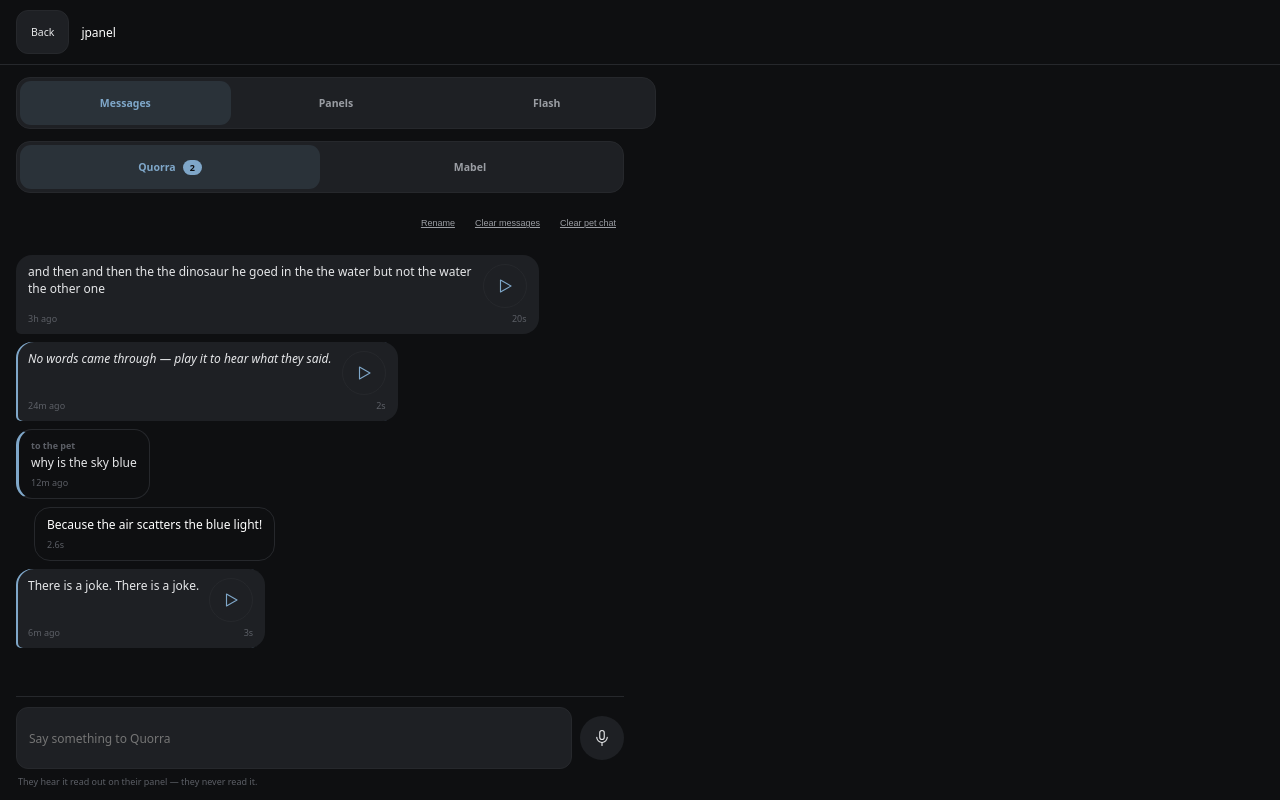
Test case: JpanelScreen messages › keeps the draft and fetches the panels again when the box no longer knows one
In the field named "Message Quorra": (294, 738) [16, 707, 572, 769], type "Bath time."
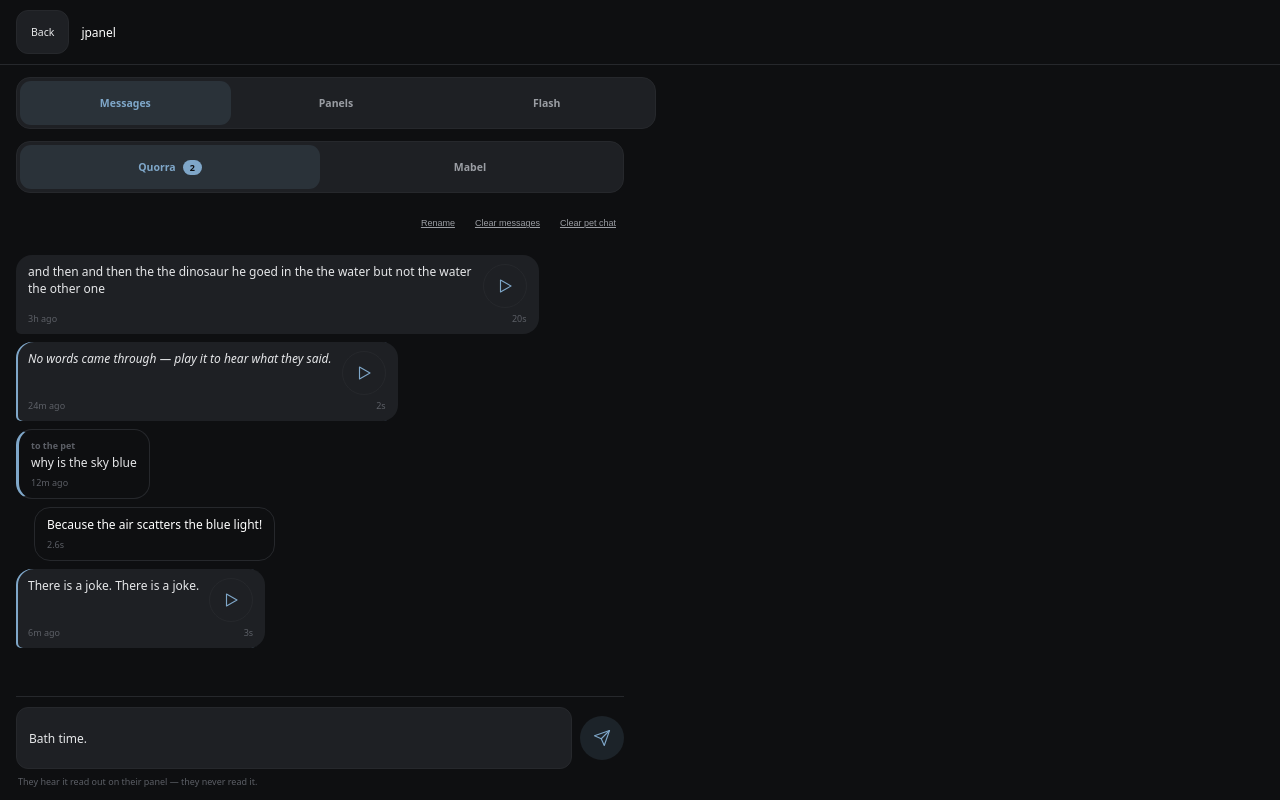
Click the button named "Send to Quorra": (602, 738) [580, 716, 624, 760]
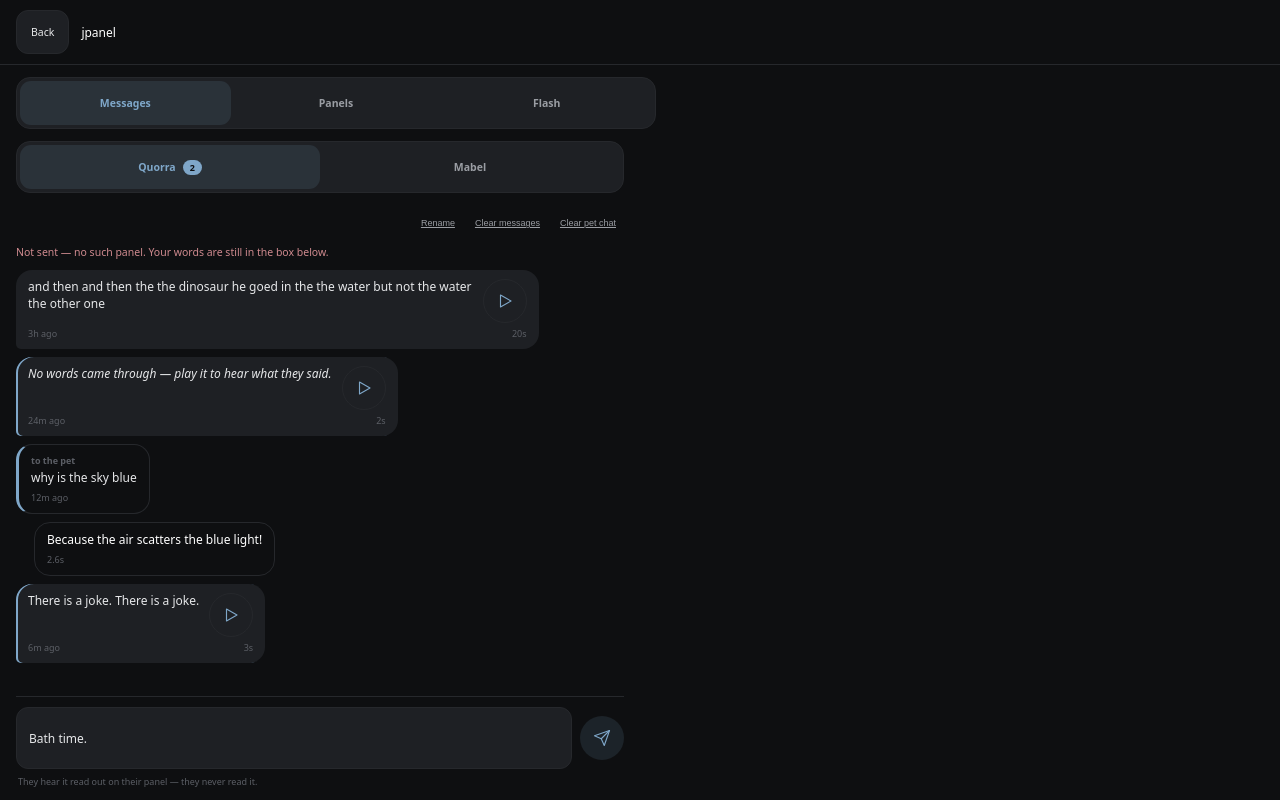
Check: the text "Not sent — no such panel. Your words are still in the box below." is shown, box [16, 245, 329, 259]
